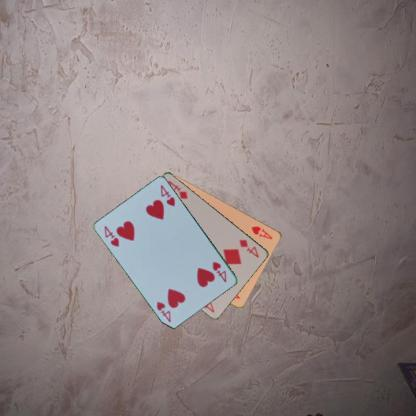4d: (237, 237, 260, 259)
4h: (210, 259, 229, 284), (102, 223, 120, 248)
Ah: (249, 224, 274, 240)
